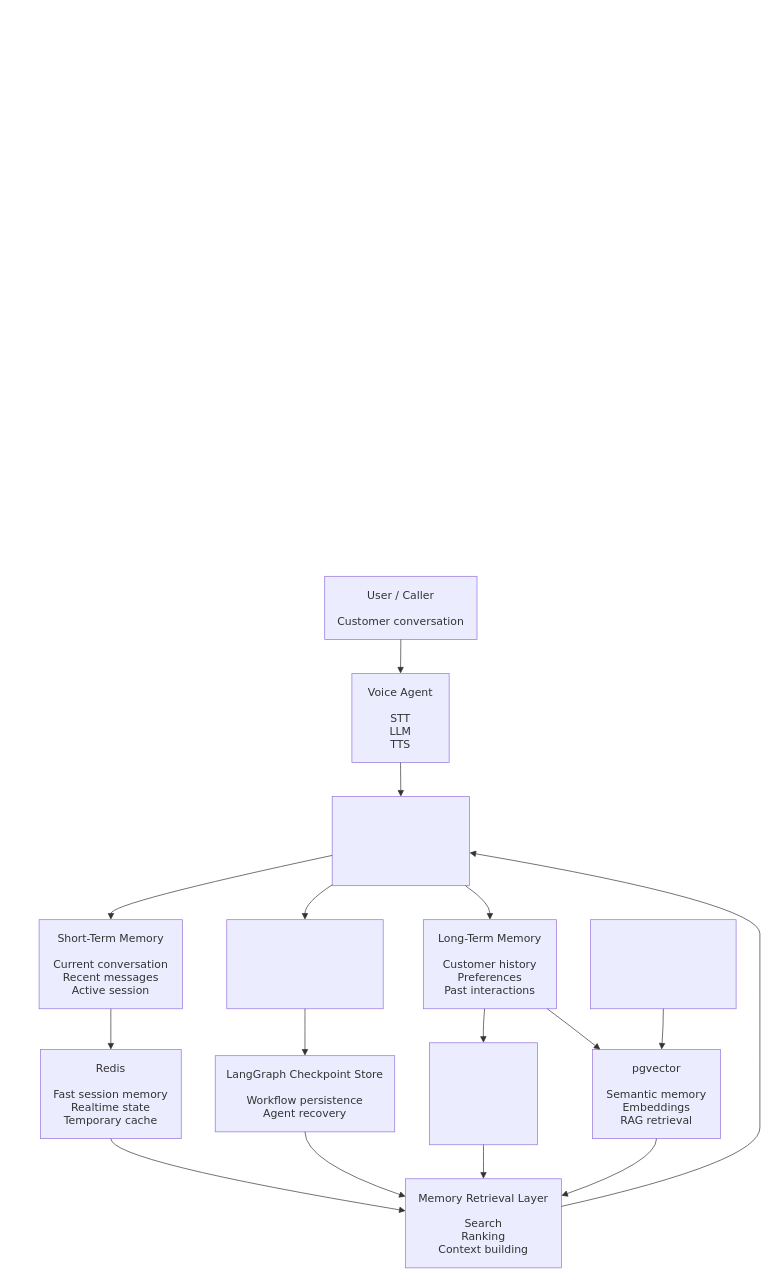
Image size: 772x1280. Some labels were removed from this diagram. Here are the shapes that lost their labels. From the top down, the centre of each, then its label:
At (x=401, y=841): "LangGraph Runtime Workflow execution Agent state Decision flow".
At (x=304, y=964): "Workflow State Memory LangGraph checkpoints Current task state Recovery point".
At (x=663, y=964): "Knowledge Base Documents Policies Company information".
At (x=483, y=1093): "PostgreSQL Customers Conversations Profiles Business data".
